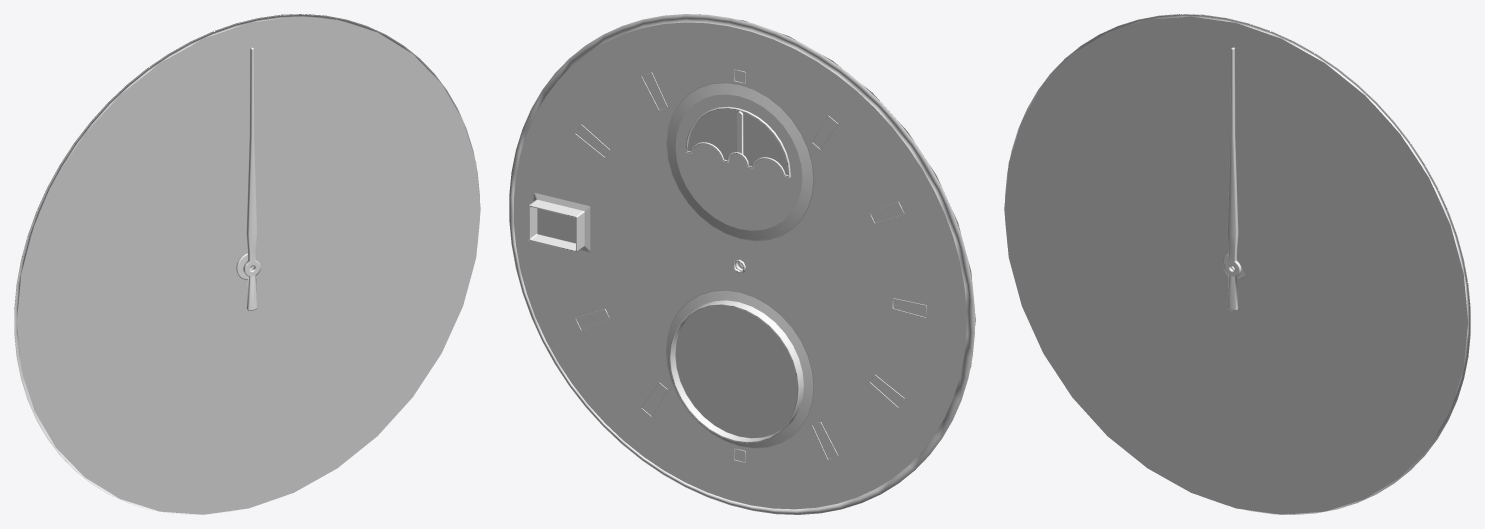
Rendered from dial.glb.
3 renders of one model, left to right at view 1: azimuth 30°, elevation 25°; view 2: azimuth 150°, elevation 25°; view 3: azimuth 330°, elevation 25°, orthographic.
Visible parts, largest first — view 1: glowdial, hand-minutes-glow, dial-background-gray, hand-hours-glow, dial-xploded-5; view 2: dial-background, dial-background-gray, glowdial, seconds-steps, hours-bars-metal; view 3: glowdial, hand-minutes-glow, dial-background-gray, hand-hours-glow, dial-xploded-5.
Boxes of the visible parts, x1,y1,x2,y2 form: glowdial: (17,16,480,514); hand-minutes-glow: (256,101,427,271); dial-background-gray: (14,14,479,514); hand-hours-glow: (133,201,235,269); dial-xploded-5: (243,47,260,310); dial-background: (514,22,966,509); dial-background-gray: (509,14,974,514); glowdial: (537,14,975,448); seconds-steps: (666,82,814,448); hours-bars-metal: (575,69,926,462); glowdial: (1004,16,1467,514); hand-minutes-glow: (1237,180,1411,277); dial-background-gray: (1005,14,1470,514); hand-hours-glow: (1120,152,1222,255); dial-xploded-5: (1224,47,1241,310).
Bounding box in the file's own units: 0.031 × 0.031 × 0.002.
Materials: 11 (4 with a texture image).
